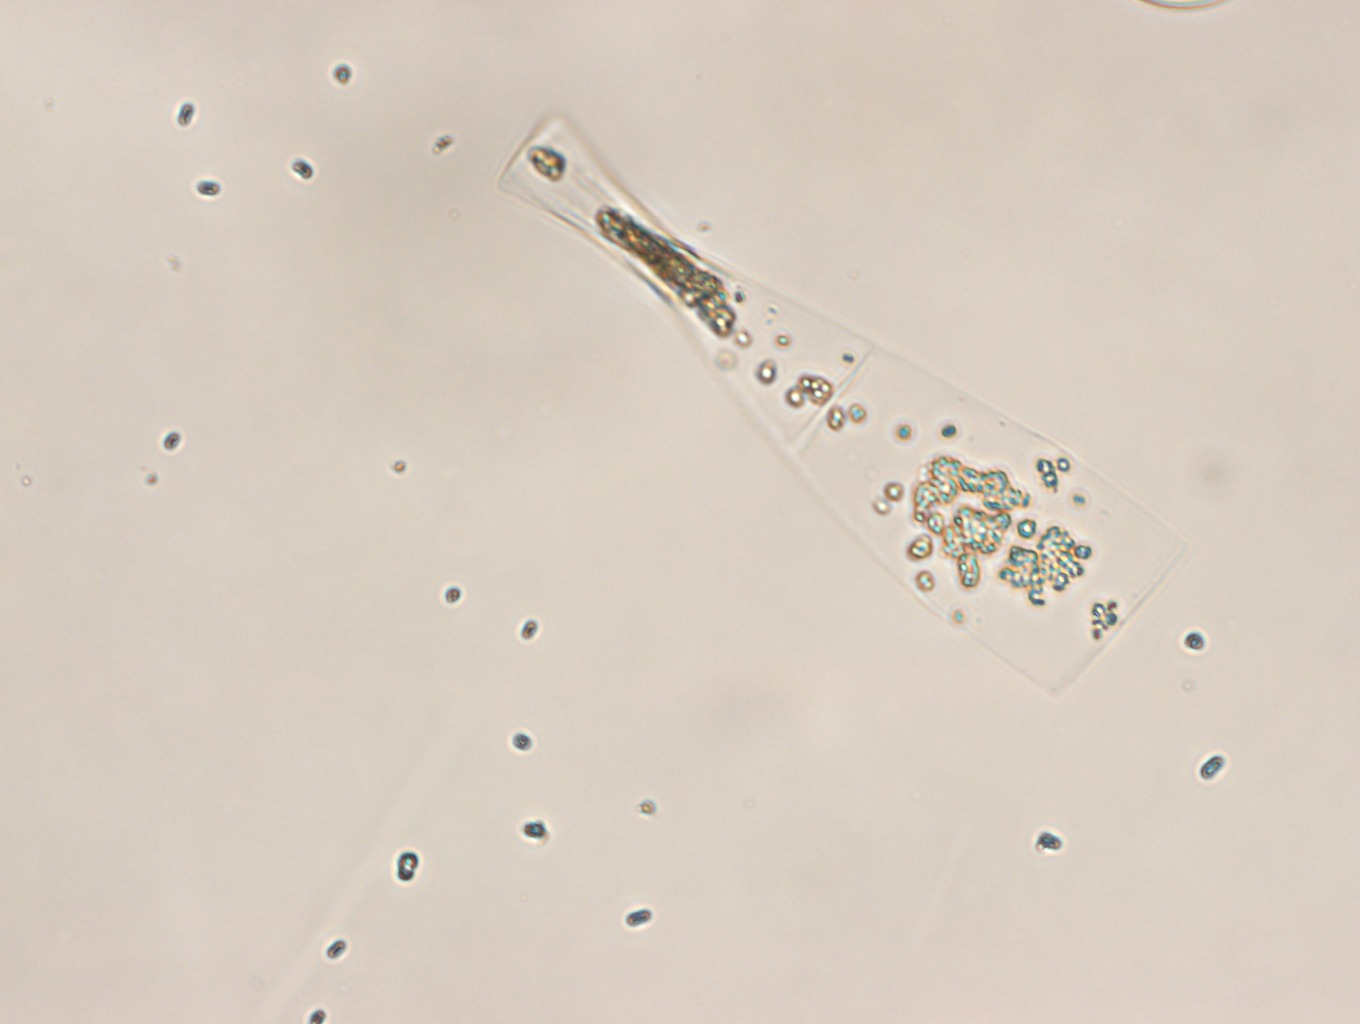helicotheca: (482, 111, 1184, 700)
